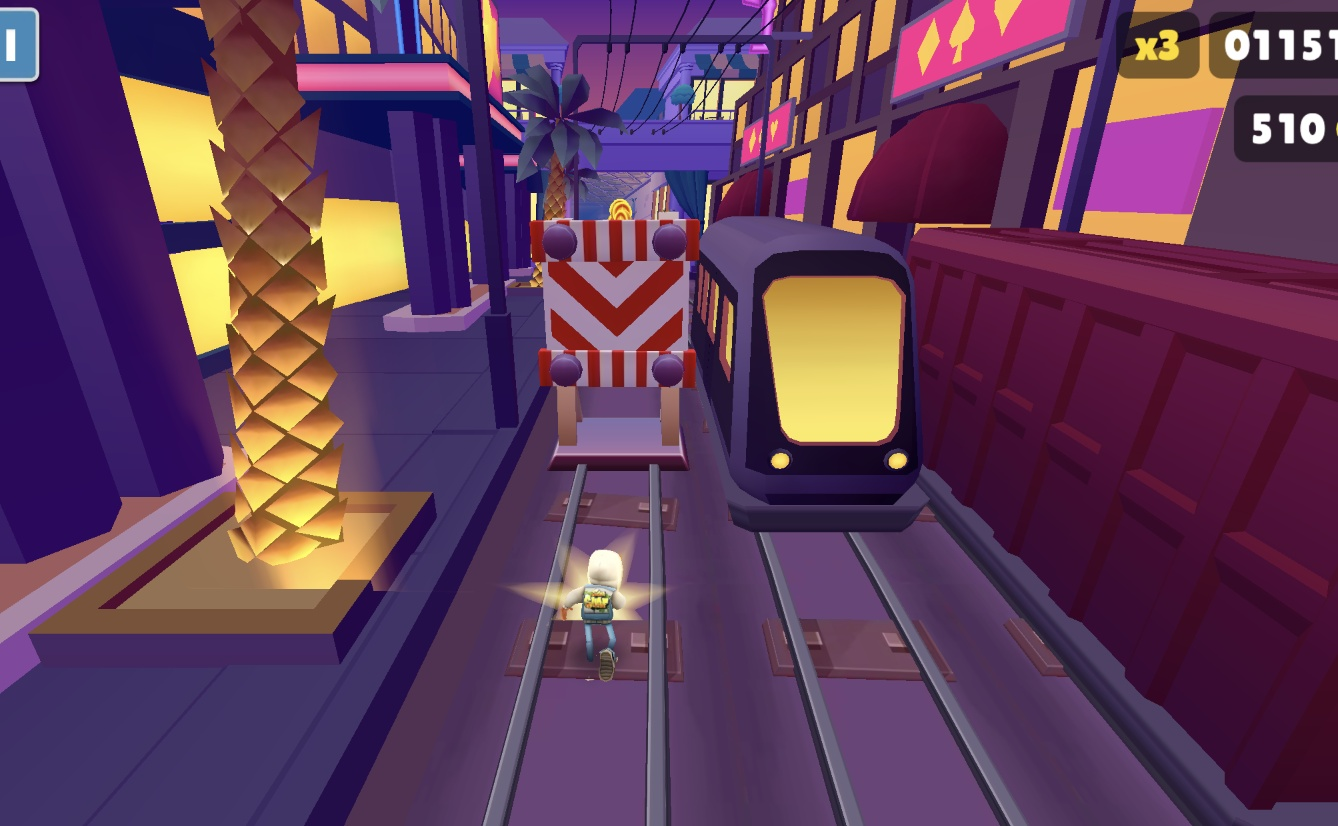overhead_barrier: (542, 210, 701, 462)
train: (879, 227, 1338, 719), (701, 225, 921, 532)
